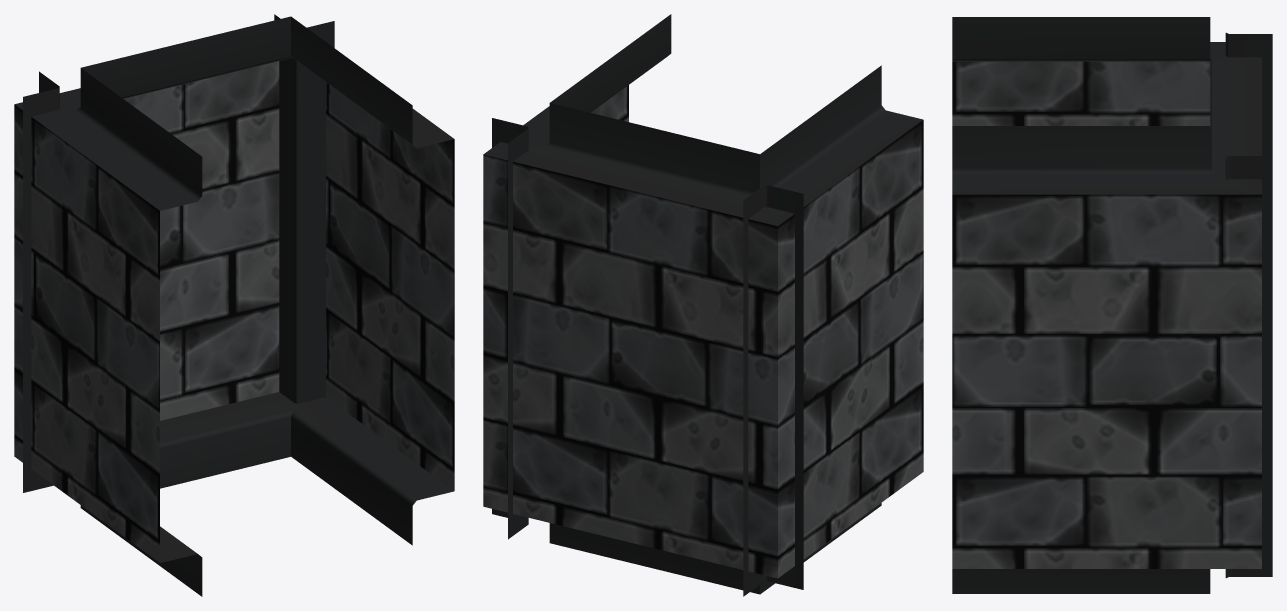
Rendered from M_Wall_Inward_Half_Up.fbx.
3 renders of one model, left to right at view 1: azimuth 30°, elevation 25°; view 2: azimuth 150°, elevation 25°; view 3: azimuth 270°, elevation 25°, orthographic. The views are drawn at different scales.
Parts seen in each view (by area): view 1: Wall_Inward_Half_Up; view 2: Wall_Inward_Half_Up; view 3: Wall_Inward_Half_Up.
Part boxes in pixels (left/top/right/bottom): Wall_Inward_Half_Up: left=14, top=14, right=454, bottom=596; Wall_Inward_Half_Up: left=483, top=14, right=923, bottom=596; Wall_Inward_Half_Up: left=952, top=17, right=1272, bottom=593.
Bounding box in the file's own units: 148 × 200 × 124.
